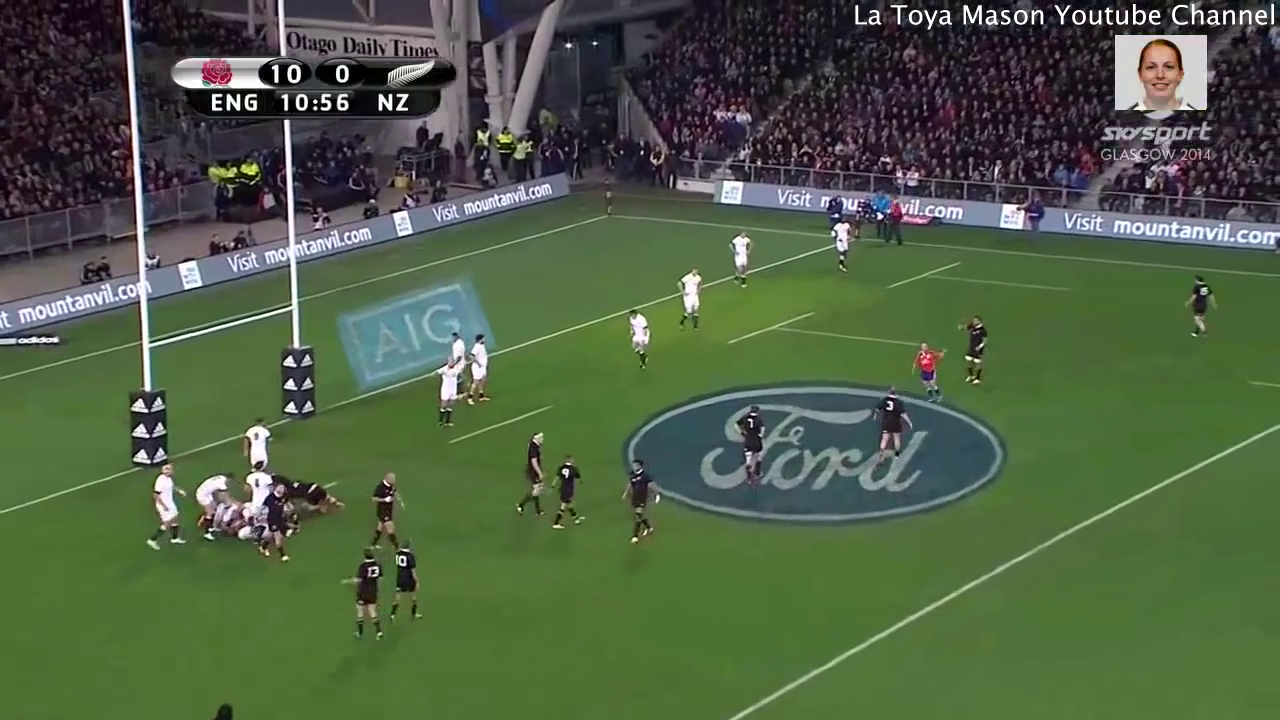player: (337, 539, 389, 652), (141, 459, 192, 560), (618, 455, 665, 552), (867, 381, 916, 468), (387, 534, 426, 636), (513, 423, 553, 522), (1175, 271, 1224, 348), (255, 480, 299, 564), (730, 399, 769, 492), (364, 468, 406, 551), (952, 310, 994, 392), (192, 467, 236, 545), (462, 328, 500, 416), (905, 336, 950, 407), (549, 451, 586, 534), (670, 264, 707, 339), (622, 303, 659, 377), (429, 353, 461, 434), (293, 477, 348, 520), (825, 212, 859, 277), (723, 228, 757, 292), (241, 459, 278, 516), (446, 326, 471, 398), (241, 413, 269, 474)
post: (116, 1, 328, 478)
